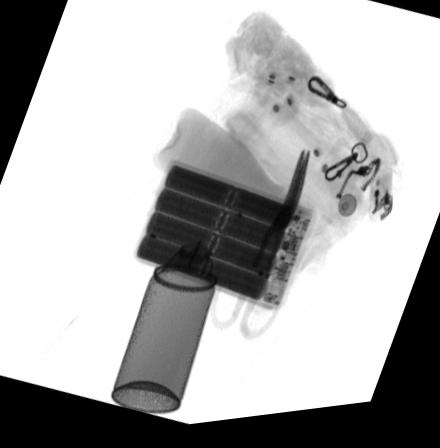Lighter: (367, 167, 396, 231)
Powerbank: (131, 159, 318, 318)
Scissors: (208, 153, 314, 347)
Sprayer: (109, 248, 215, 417)
